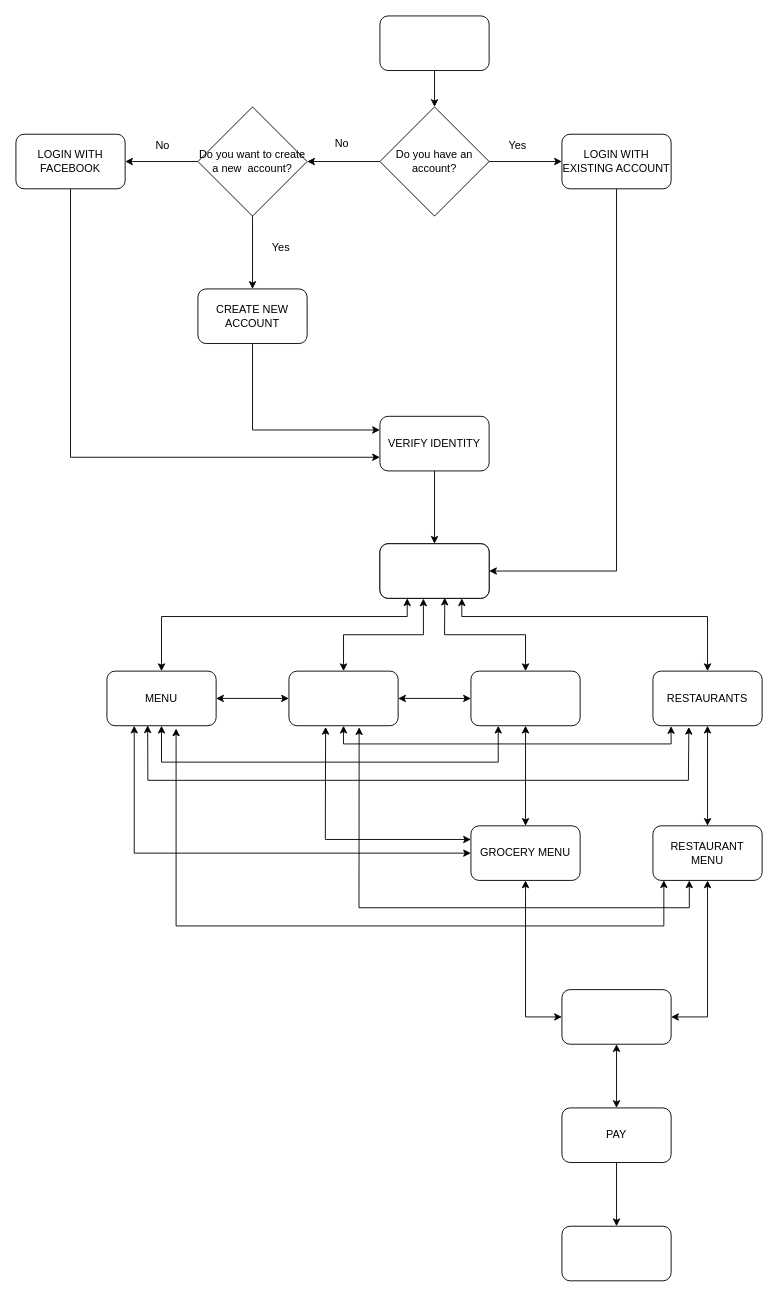
Some shapes in this 778 by 1297 pixel diagram are drawn without their labels. Each missing label, with the centre of its shape:
BAG: the point at 343,698
GROCERIES: the point at 525,698
HOME: the point at 434,570
LOGIN: the point at 434,43
ORDER: the point at 616,1016
ORDER SUCCESSFUL: the point at 616,1253
